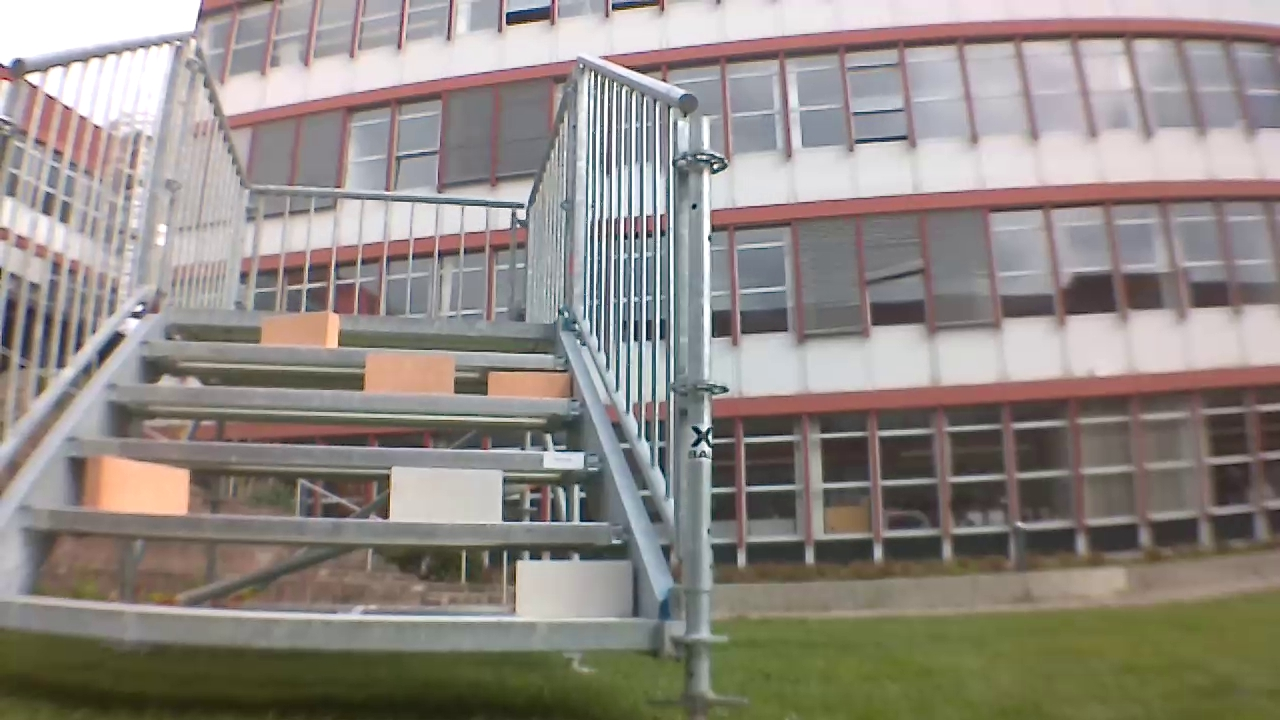brick: (517, 561, 633, 616), (83, 455, 188, 515), (391, 468, 500, 523), (367, 352, 454, 394), (262, 313, 337, 347), (489, 372, 569, 396)
edge: (2, 597, 655, 649), (23, 506, 626, 543), (65, 437, 605, 473), (110, 383, 585, 414), (165, 308, 559, 339), (140, 342, 567, 367)
stairs: (4, 30, 750, 716)
steps: (3, 303, 659, 657)
